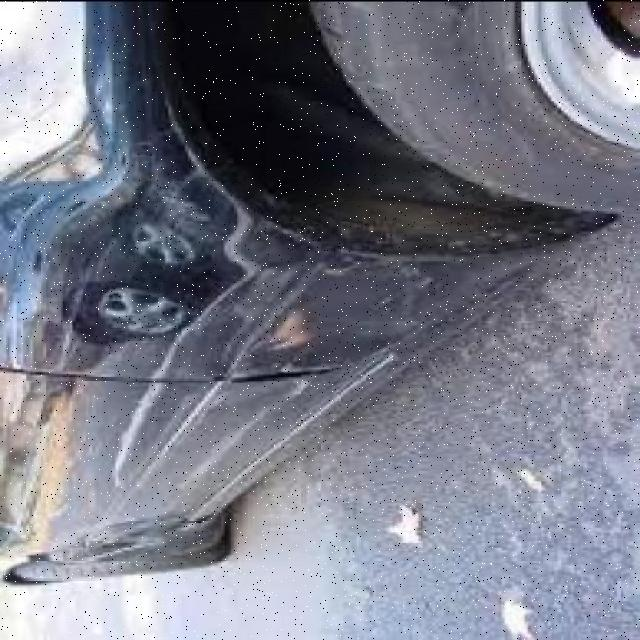damage: (192, 260, 417, 393)
